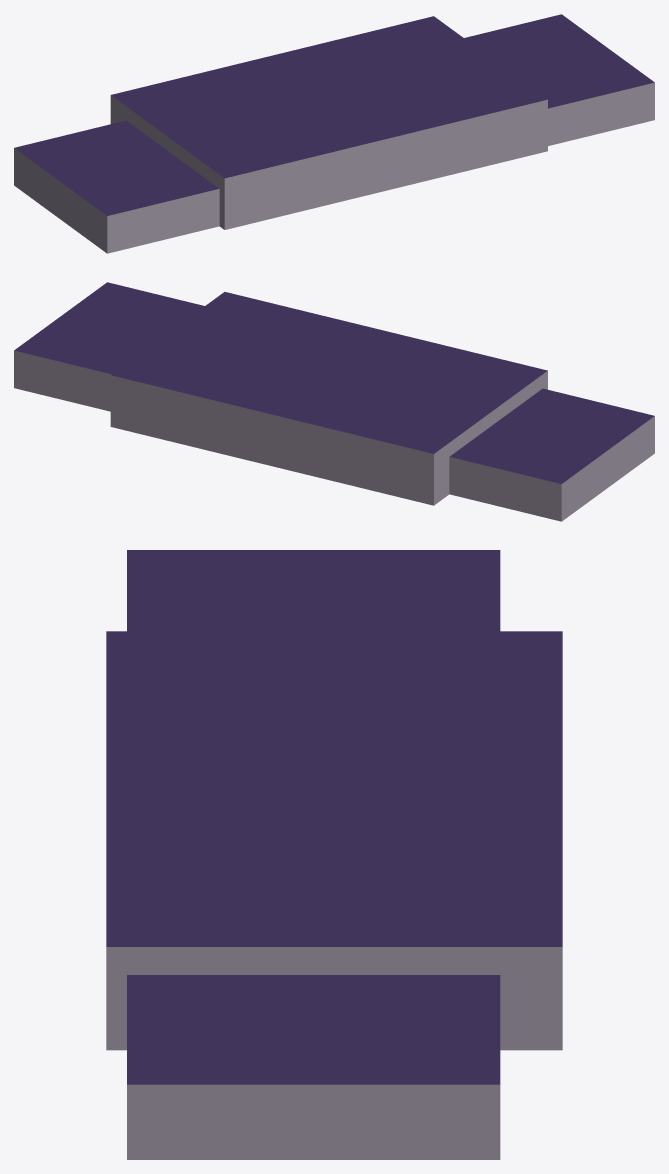
File: sac-low.glb
3 views of the same model, one above another, from view 1: azimuth 30°, elevation 25°; view 2: azimuth 150°, elevation 25°; view 3: azimuth 270°, elevation 25° (orthographic). The views are drawn at different scales.
Bounding box in the file's own units: 122 × 11 × 44.
